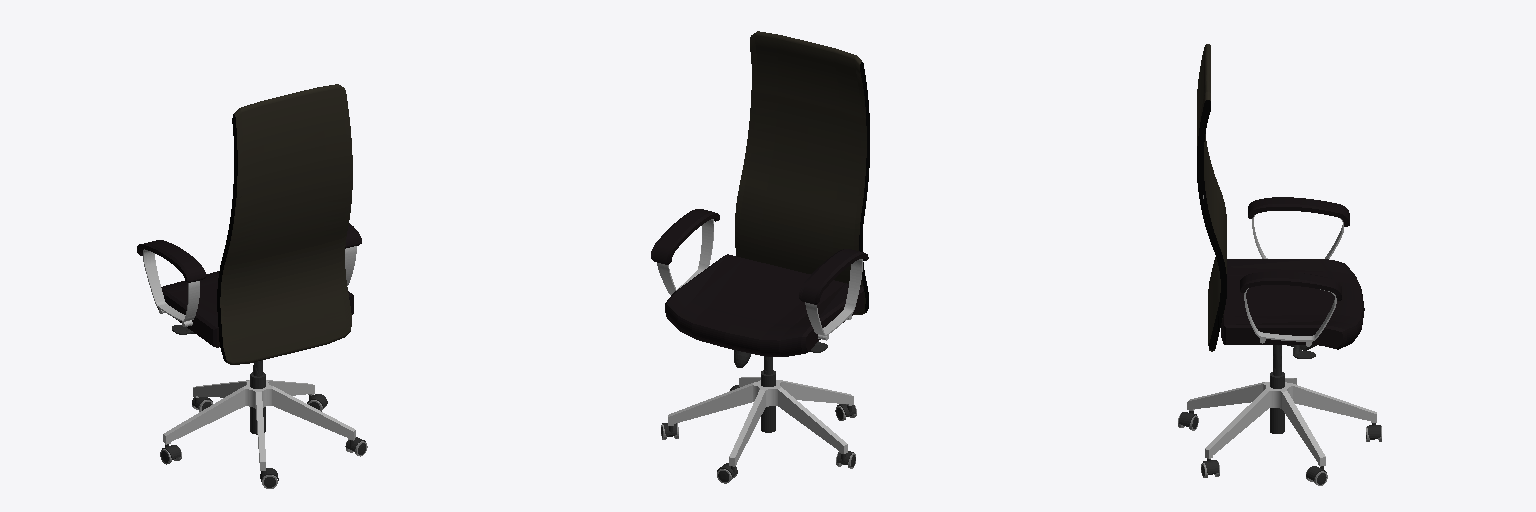
The picture shows the model from 3 angles: view 1: azimuth 30°, elevation 25°; view 2: azimuth 150°, elevation 25°; view 3: azimuth 270°, elevation 25°; orthographic projection.
Parts seen in each view (by area): view 1: Mesh1 Group1 Model, Mesh3 Group3 Model, Mesh6 Group6 Model, Mesh12 Group10 Armrest2 Model, Mesh13 Group11 Armrest2 Model, Mesh2 Group2 Model; view 2: Mesh1 Group1 Model, Mesh6 Group6 Model, Mesh3 Group3 Model, Mesh9 Group9 Armrest1 Model, Mesh13 Group11 Armrest2 Model, Mesh12 Group10 Armrest2 Model, Mesh8 Group8 Armrest1 Model, Mesh2 Group2 Model; view 3: Mesh6 Group6 Model, Mesh3 Group3 Model, Mesh1 Group1 Model, Mesh13 Group11 Armrest2 Model, Mesh9 Group9 Armrest1 Model, Mesh2 Group2 Model, Mesh8 Group8 Armrest1 Model.
Boxes of the visible parts, box(x1,y1,x2,y2) form: Mesh1 Group1 Model: box(217, 84, 352, 364); Mesh3 Group3 Model: box(163, 380, 355, 470); Mesh6 Group6 Model: box(157, 271, 353, 347); Mesh12 Group10 Armrest2 Model: box(143, 249, 199, 321); Mesh13 Group11 Armrest2 Model: box(137, 240, 206, 282); Mesh2 Group2 Model: box(250, 360, 265, 434); Mesh1 Group1 Model: box(735, 31, 869, 314); Mesh6 Group6 Model: box(665, 254, 863, 356); Mesh3 Group3 Model: box(668, 377, 853, 466); Mesh9 Group9 Armrest1 Model: box(651, 209, 719, 264); Mesh13 Group11 Armrest2 Model: box(799, 249, 868, 304); Mesh12 Group10 Armrest2 Model: box(805, 259, 862, 335); Mesh8 Group8 Armrest1 Model: box(657, 219, 713, 294); Mesh2 Group2 Model: box(761, 356, 775, 432); Mesh6 Group6 Model: box(1221, 259, 1364, 349); Mesh3 Group3 Model: box(1187, 378, 1376, 466); Mesh1 Group1 Model: box(1197, 44, 1226, 351); Mesh13 Group11 Armrest2 Model: box(1248, 197, 1349, 226); Mesh9 Group9 Armrest1 Model: box(1240, 271, 1341, 300); Mesh2 Group2 Model: box(1270, 345, 1284, 433); Mesh8 Group8 Armrest1 Model: box(1244, 288, 1336, 341).
Size of the model in its own units: 0.4491 by 0.9086 by 0.4465.